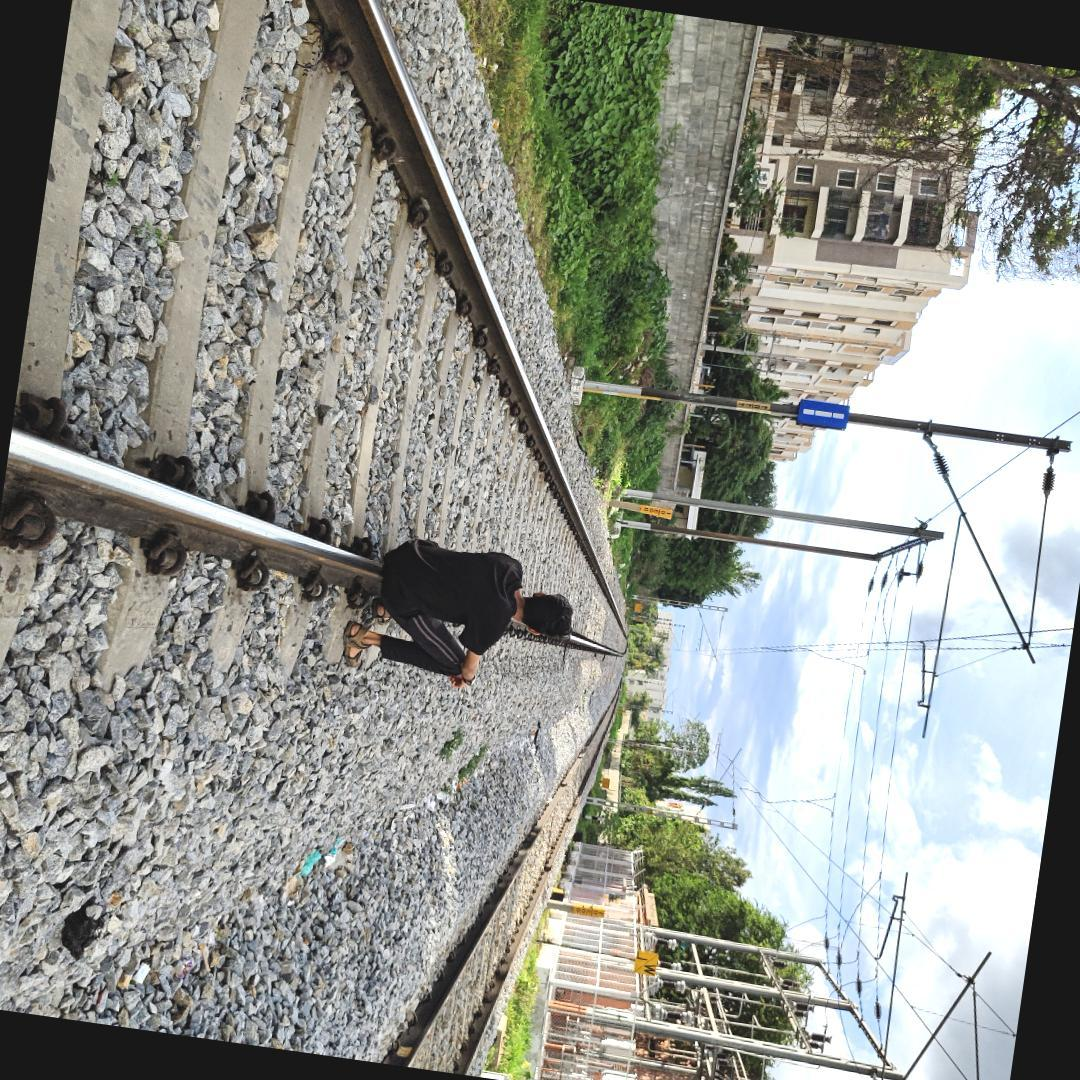sitting: (340, 518, 586, 705)
